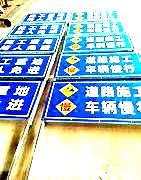sign: (51, 82, 141, 121), (59, 54, 139, 77), (1, 80, 38, 117), (65, 36, 133, 52), (1, 54, 47, 77), (1, 37, 53, 51), (69, 23, 124, 34), (72, 11, 120, 21), (10, 25, 62, 34), (23, 13, 68, 22)
